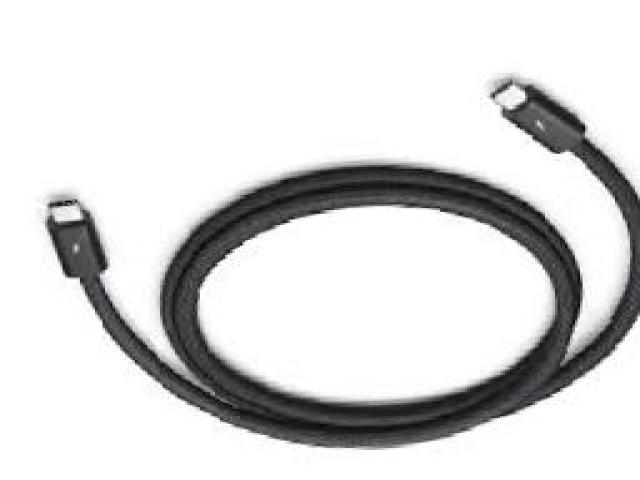wire: (40, 73, 638, 448)
